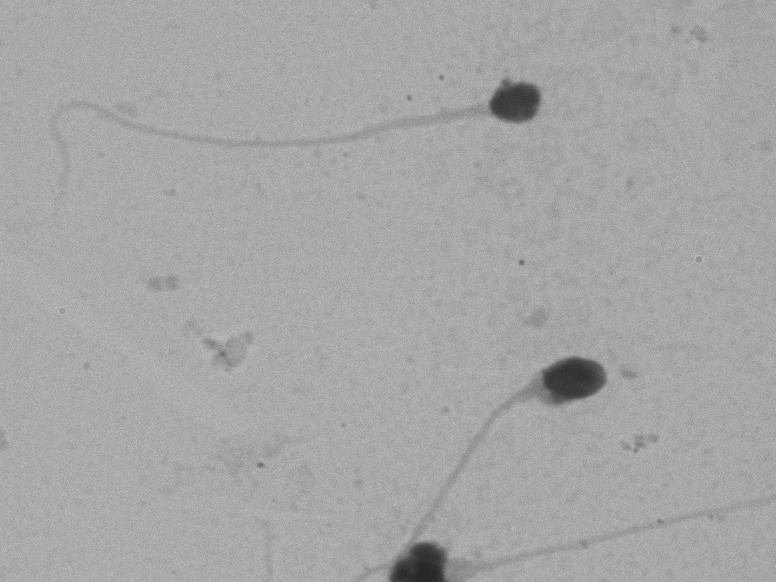Abnormal: (23, 61, 563, 241), (390, 291, 626, 546)
